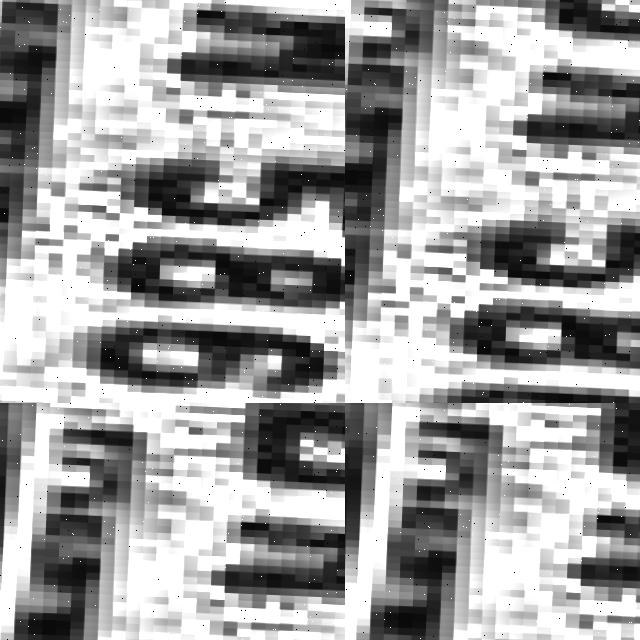license-plate: (0, 0, 345, 403), (0, 403, 345, 640), (345, 403, 640, 640)
